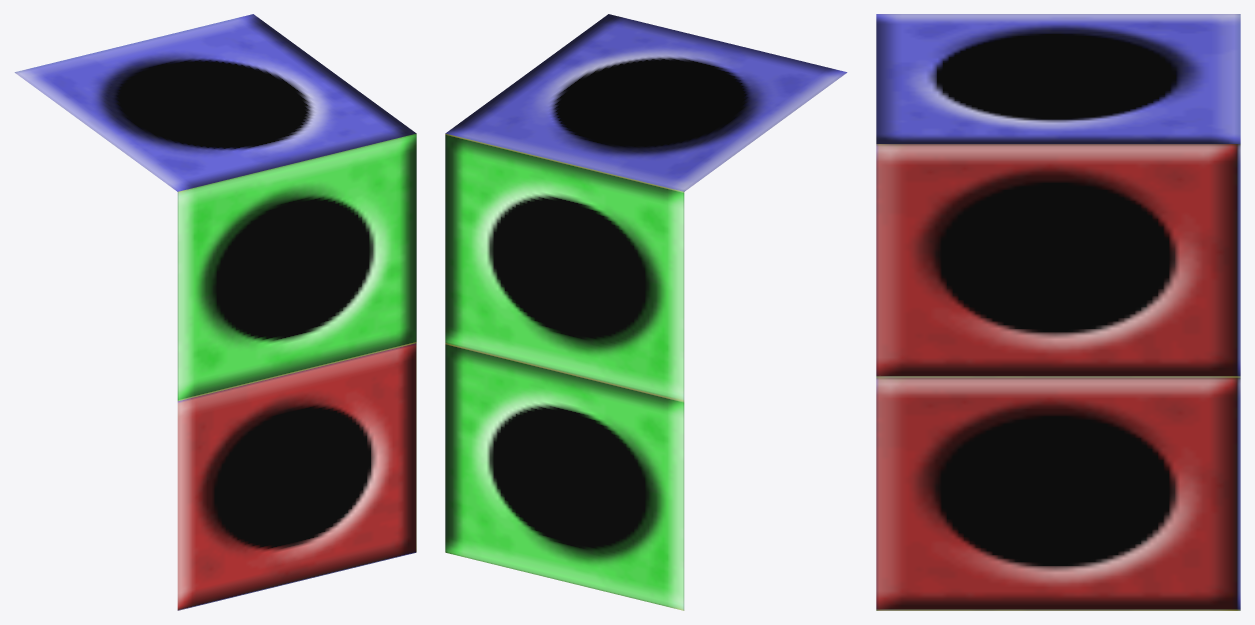
The model's file is Blocks_Out.glb.
3 views of the same model, side by side, from view 1: azimuth 30°, elevation 25°; view 2: azimuth 150°, elevation 25°; view 3: azimuth 270°, elevation 25° (orthographic). The views are drawn at different scales.
Parts seen in each view (by area): view 1: Blocks_Out; view 2: Blocks_Out; view 3: Blocks_Out.
Part boxes in pixels (left/top/right/bottom): Blocks_Out: left=14, top=14, right=416, bottom=610; Blocks_Out: left=445, top=14, right=847, bottom=610; Blocks_Out: left=876, top=14, right=1240, bottom=610.
Size of the model in its own units: 368 by 617 by 436.
Materials: 2 (2 with a texture image).
